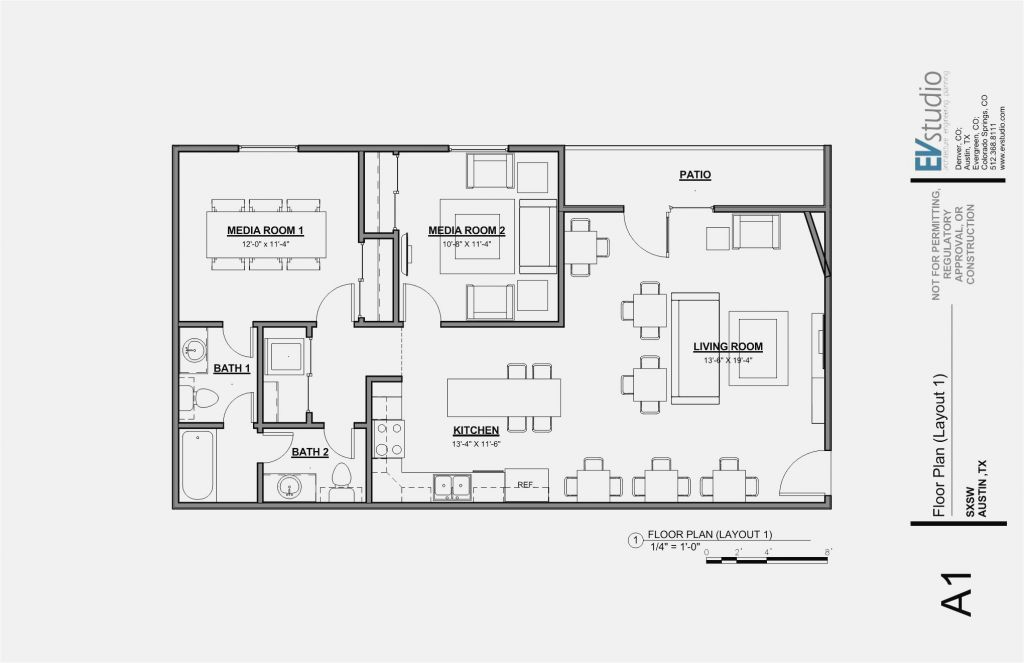door: (617, 218, 673, 262), (774, 450, 820, 498), (399, 281, 444, 318), (316, 282, 355, 315), (222, 329, 254, 360), (264, 430, 296, 461), (325, 431, 357, 462), (222, 391, 254, 422)
